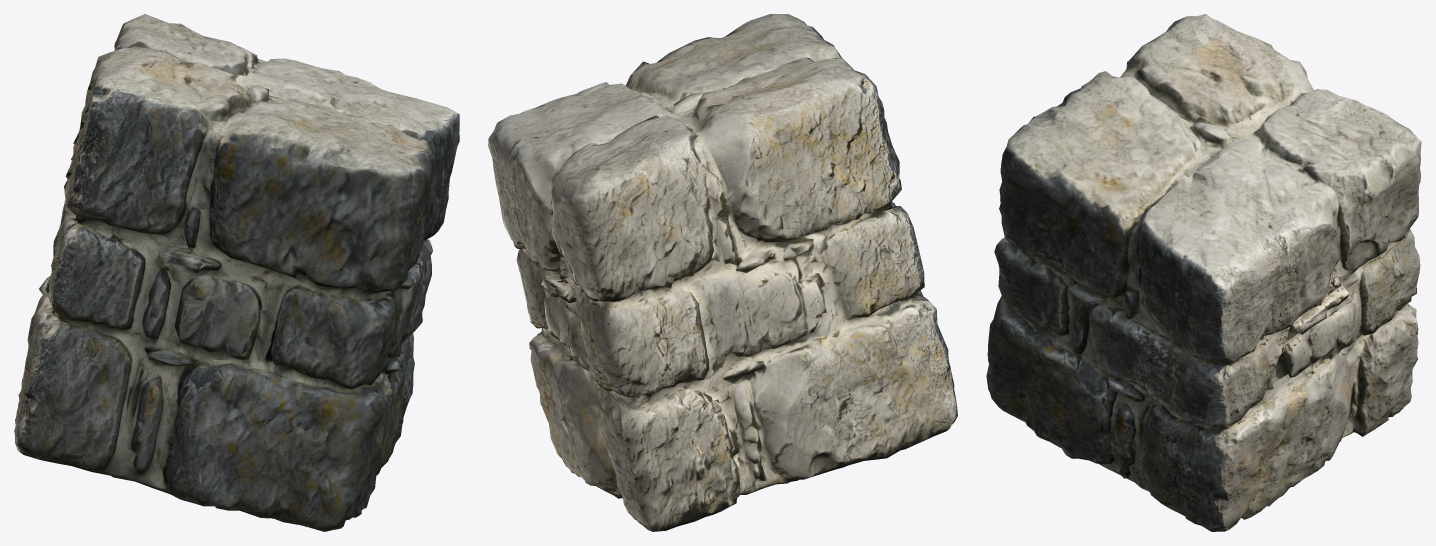
3 renders of one model, left to right at view 1: azimuth 30°, elevation 25°; view 2: azimuth 150°, elevation 25°; view 3: azimuth 270°, elevation 25°, orthographic. The views are drawn at different scales.
Visible parts, largest first — view 1: tripo_node_7f653be3-11bb-4a7c-84cf-82f7b41cb4d5; view 2: tripo_node_7f653be3-11bb-4a7c-84cf-82f7b41cb4d5; view 3: tripo_node_7f653be3-11bb-4a7c-84cf-82f7b41cb4d5.
Part boxes in pixels (bbox=[...]): tripo_node_7f653be3-11bb-4a7c-84cf-82f7b41cb4d5: bbox=[14, 14, 459, 531]; tripo_node_7f653be3-11bb-4a7c-84cf-82f7b41cb4d5: bbox=[488, 14, 957, 531]; tripo_node_7f653be3-11bb-4a7c-84cf-82f7b41cb4d5: bbox=[986, 14, 1421, 531].
Bounding box in the file's own units: 0.9818 × 0.9252 × 0.9192.
1 material, 1 textured.
